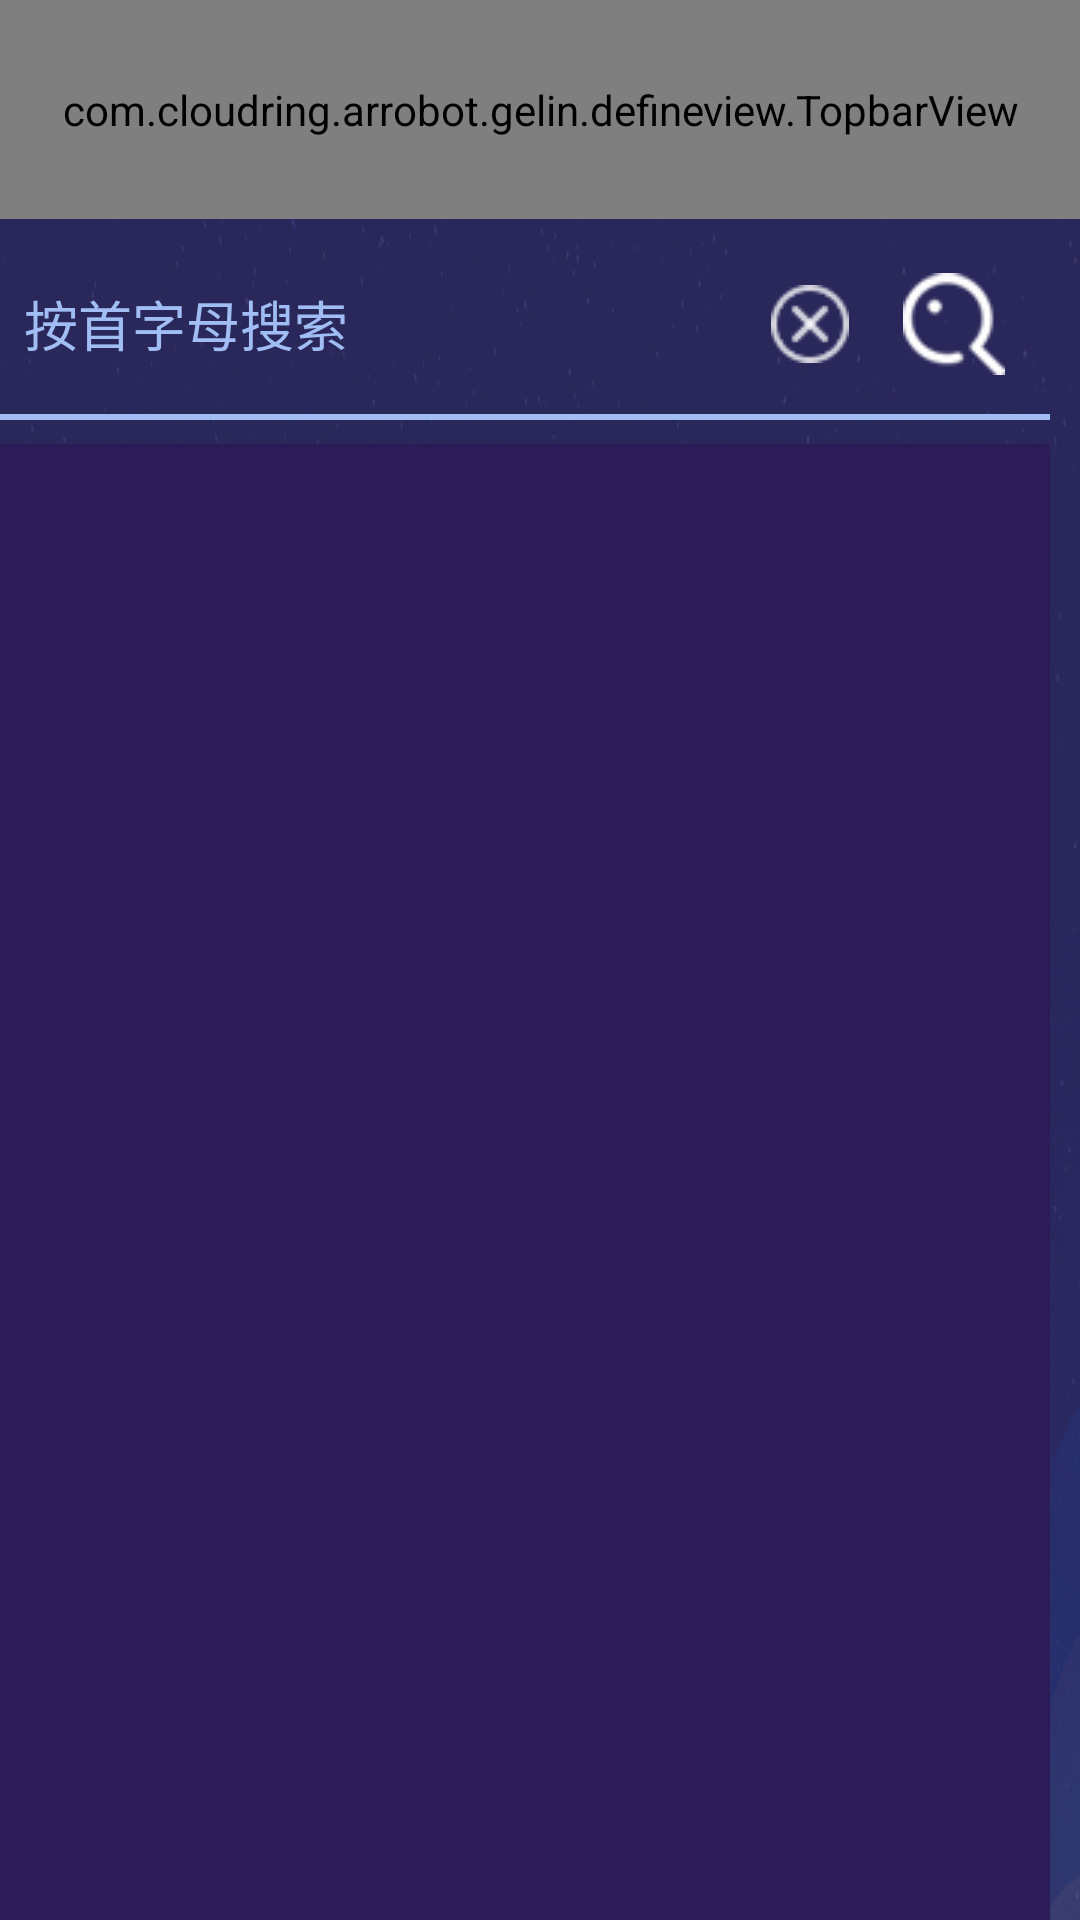

Named icons in this screenshot (1080 x 1920) and their centers, (x=x, y=y):
search: (x=954, y=322)
search delete: (x=810, y=324)
